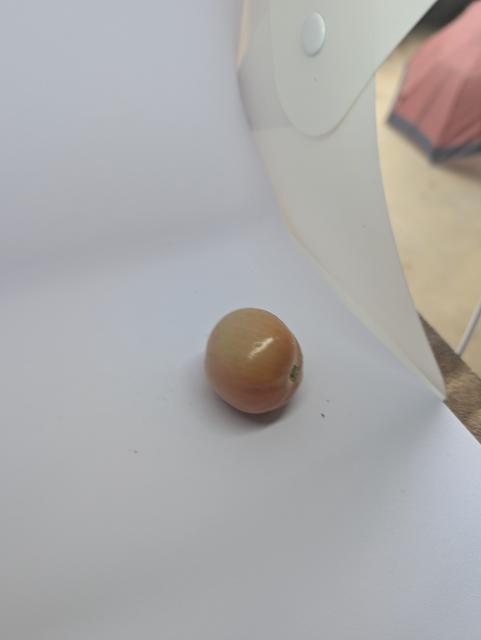turning: (201, 296, 317, 425)
